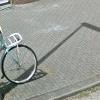bicycles: (0, 28, 40, 86)
